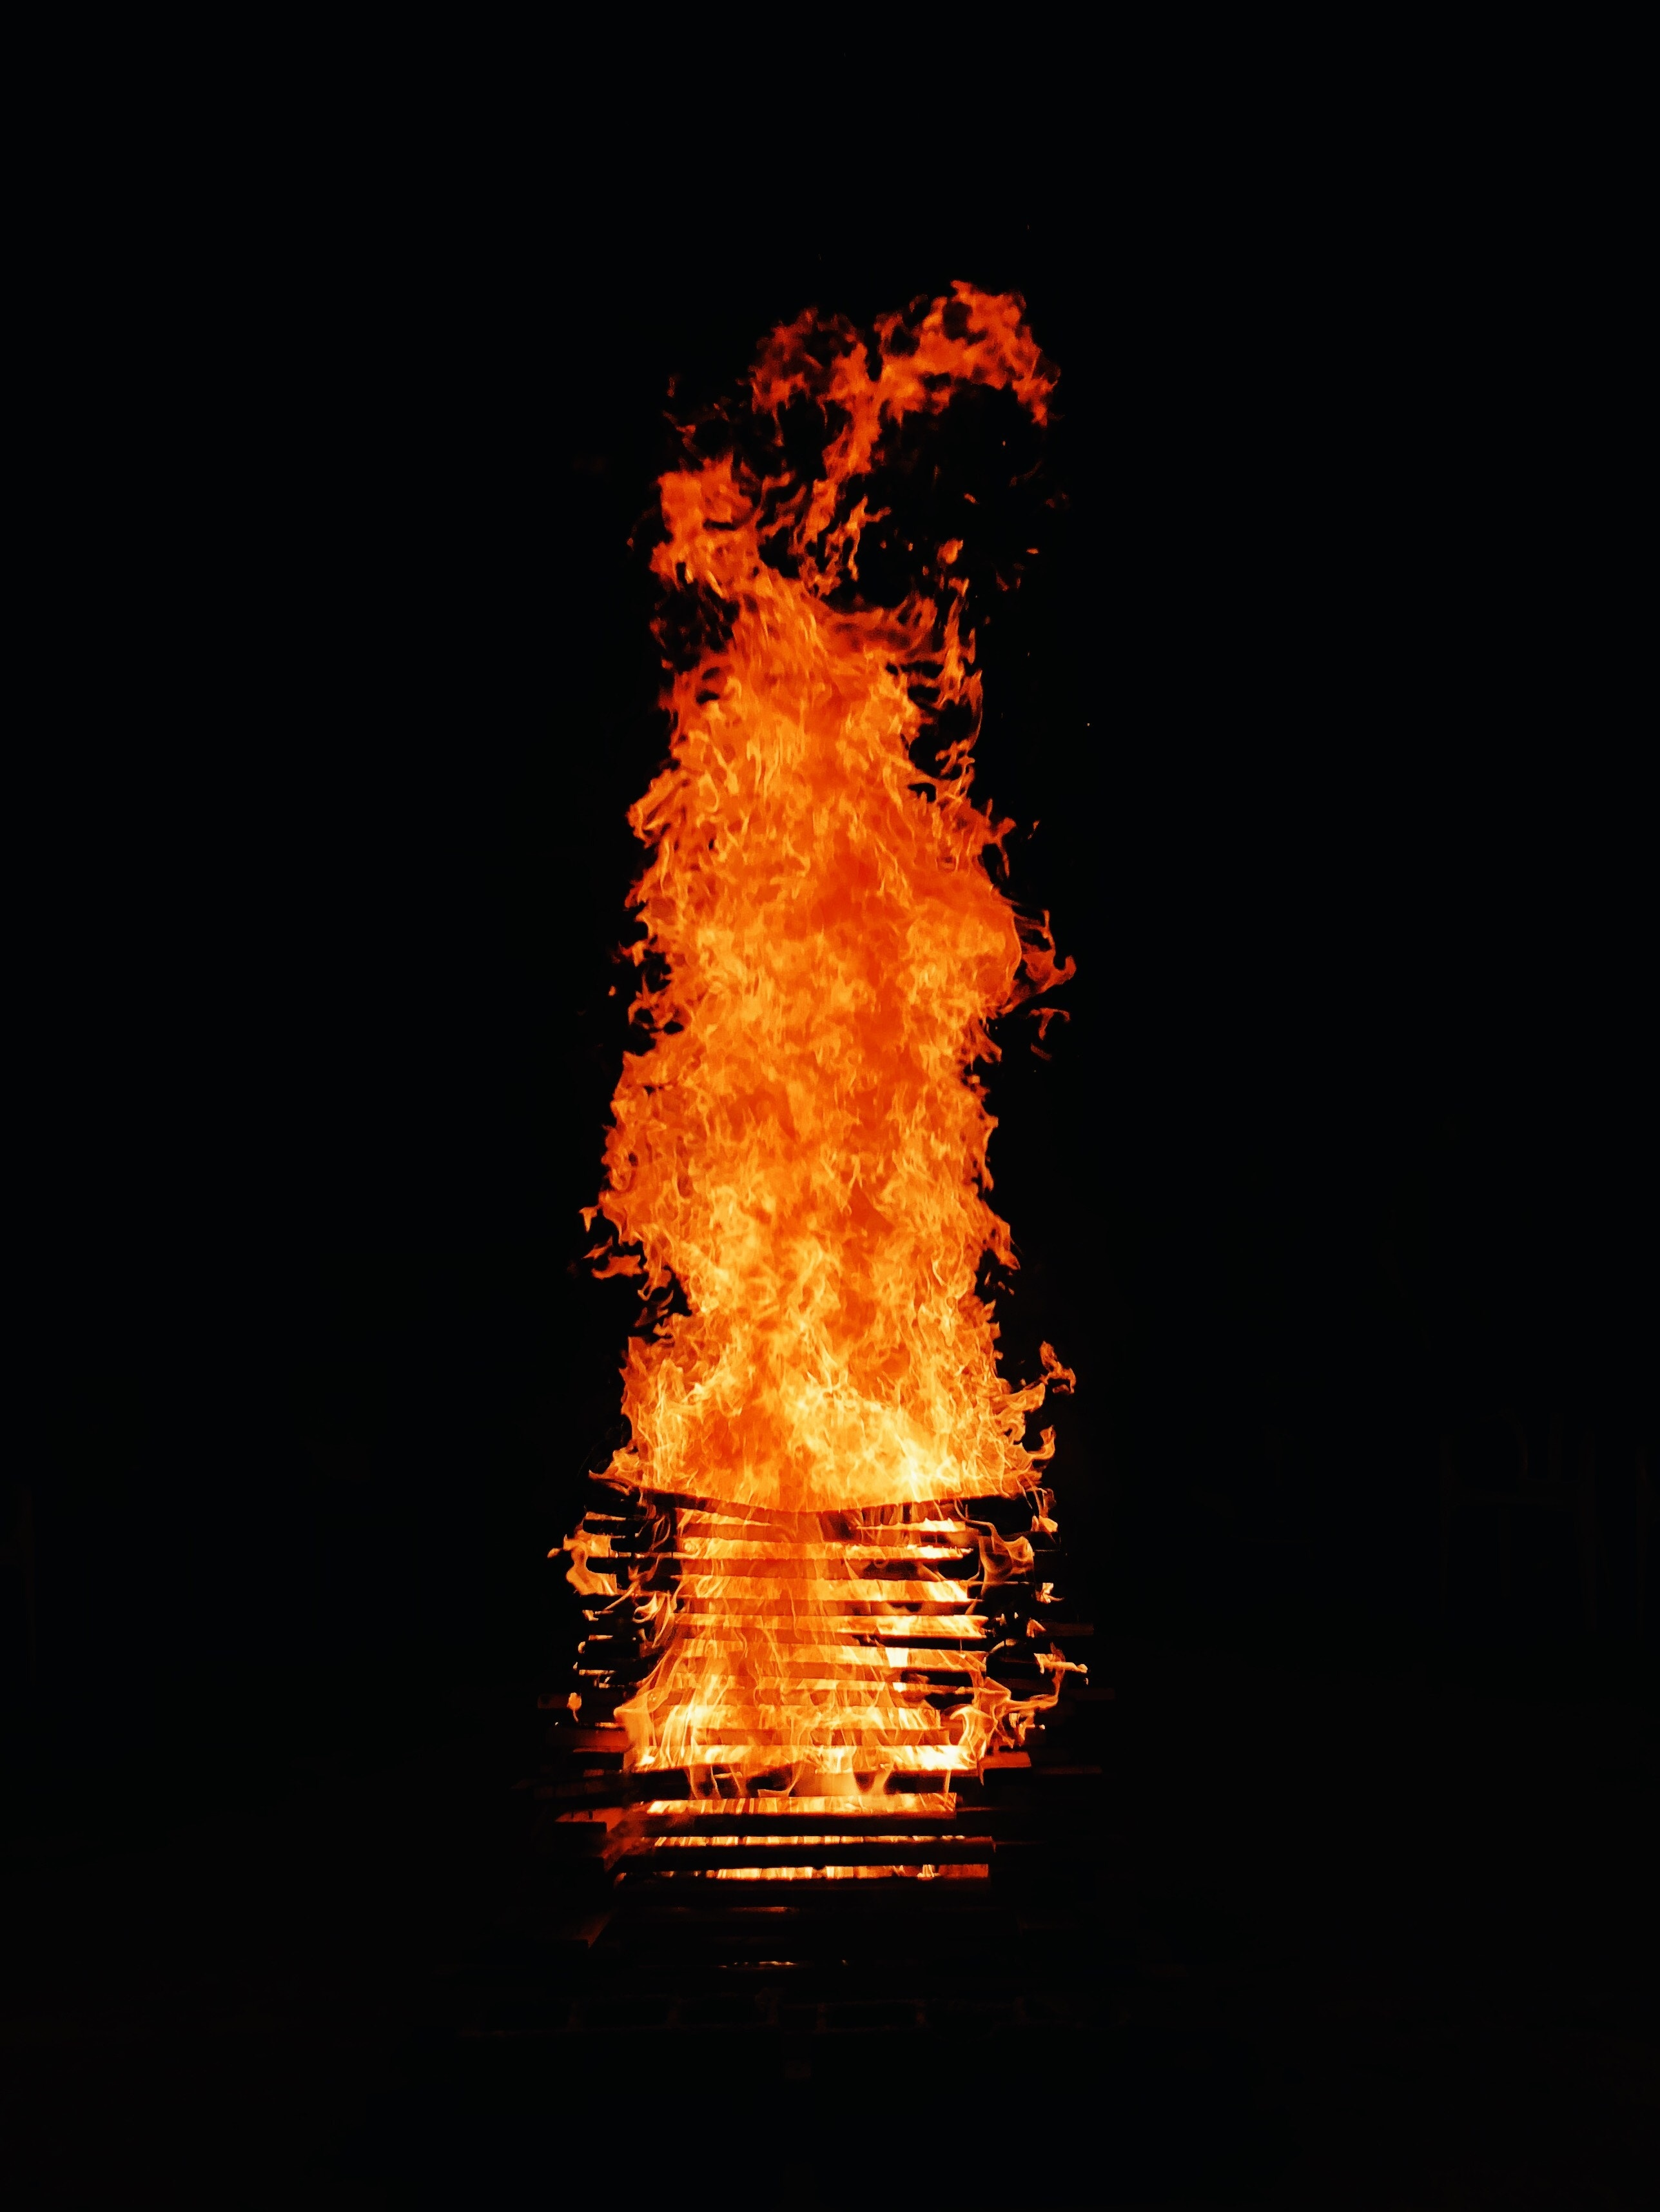fire: (534, 171, 1179, 1984)
